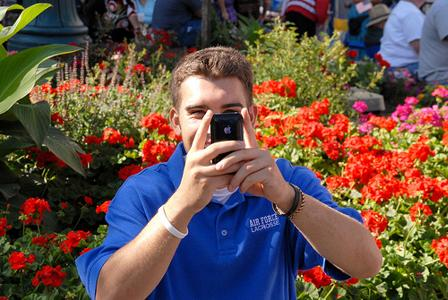person: (77, 48, 382, 300)
